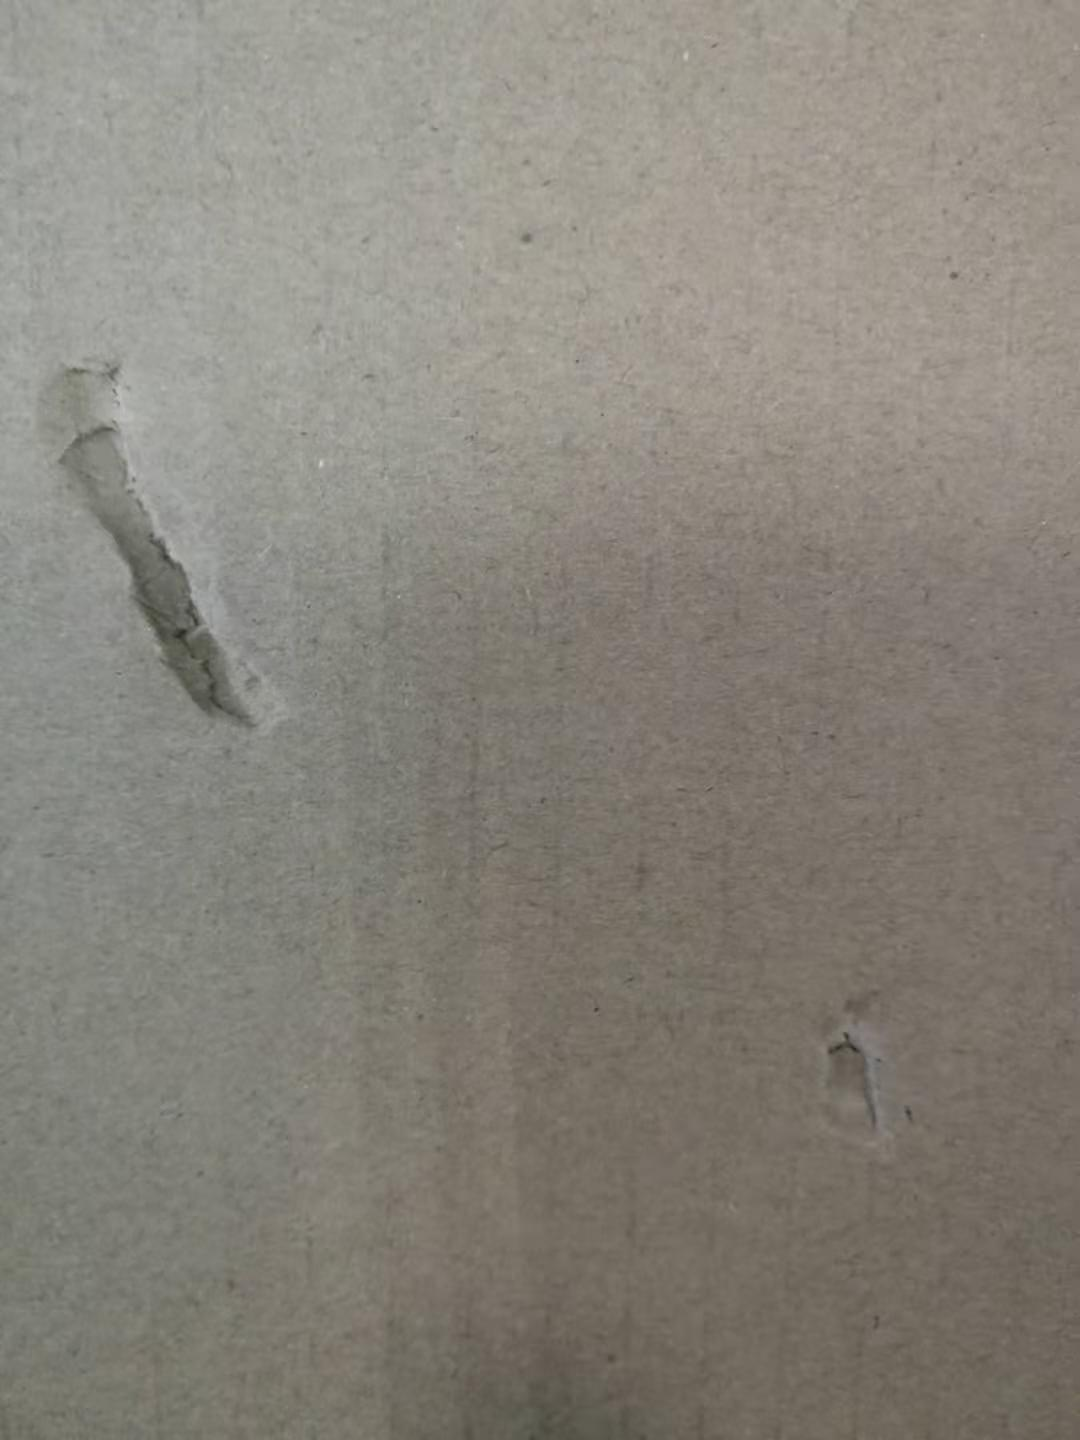defect: (20, 330, 312, 766), (792, 968, 929, 1174)
